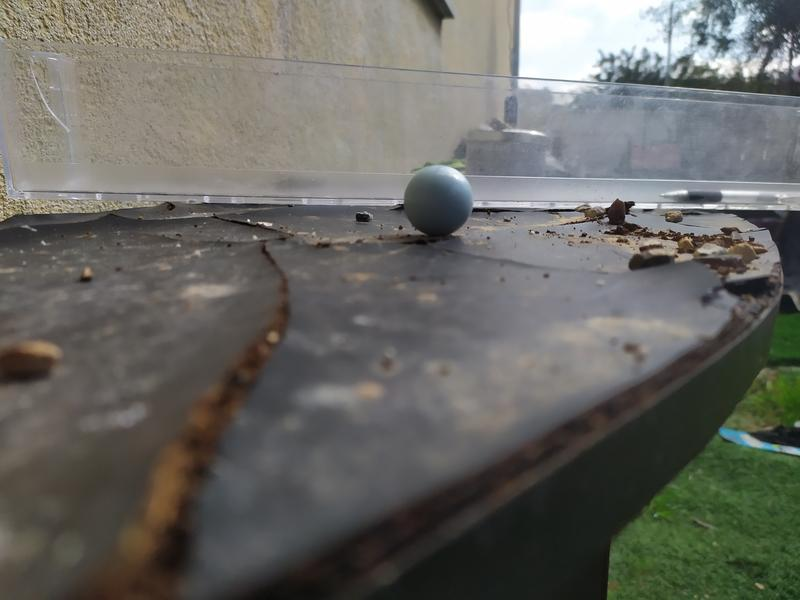Warning: (401, 163, 477, 239)
